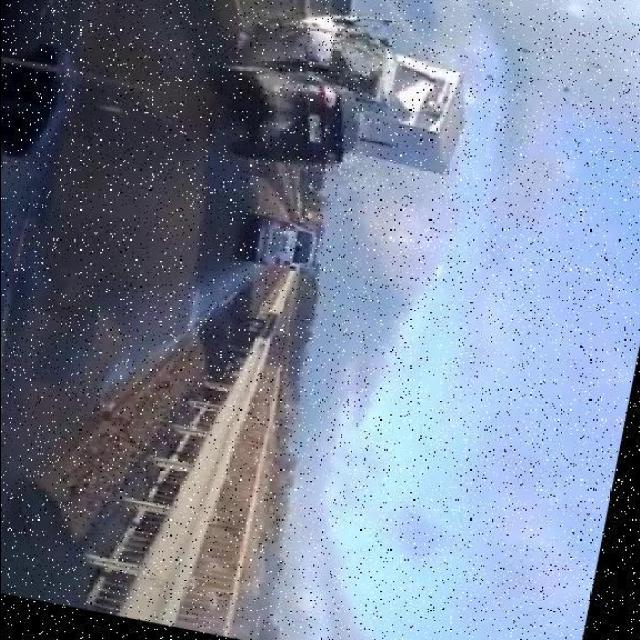accident: (200, 1, 484, 207)
